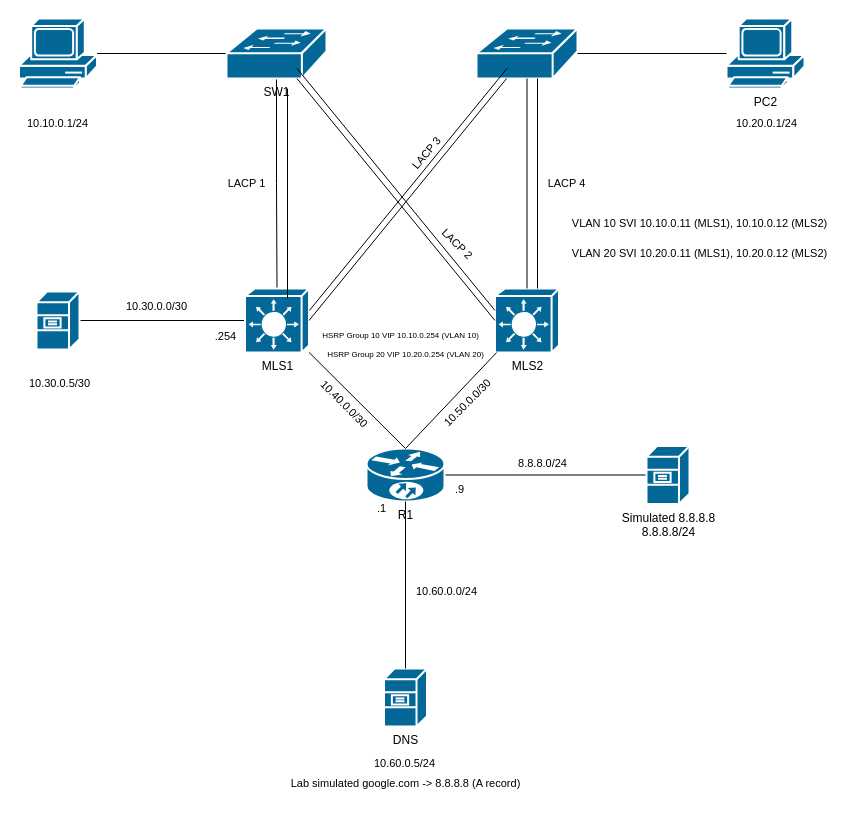
This 856x815 diagram has some shape labels left out. Each missing label, with the box of its shape:
DHCP: (35, 290, 80, 350)
PC1: (18, 17, 98, 89)
SW2: (475, 27, 578, 79)
